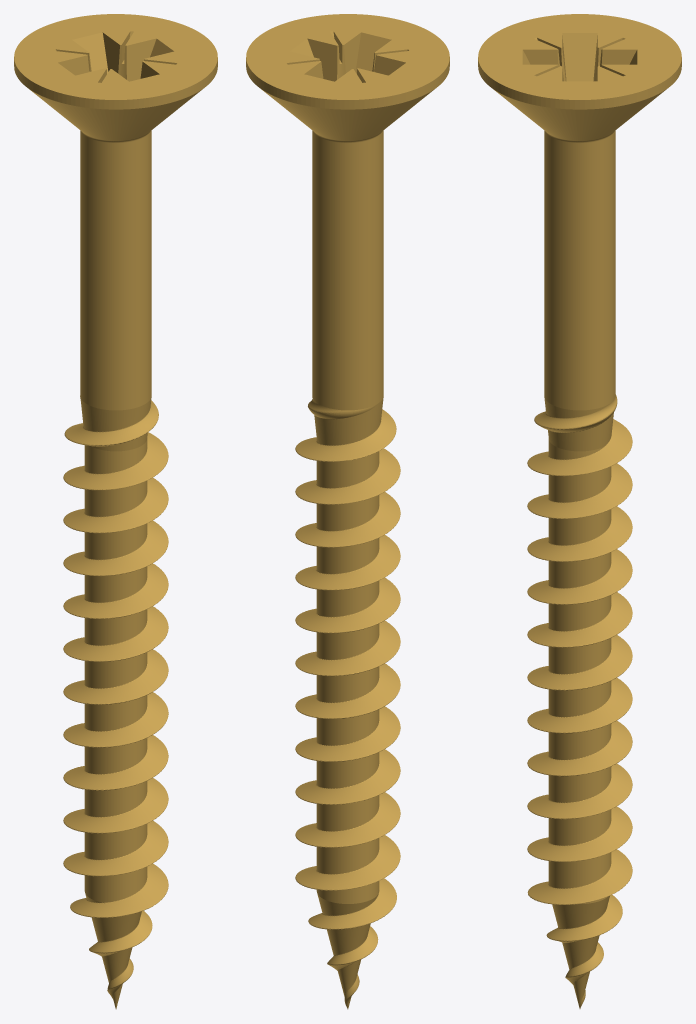
Rendered from model_full.glb.
3 views of the same model, side by side, from view 1: azimuth 30°, elevation 25°; view 2: azimuth 150°, elevation 25°; view 3: azimuth 270°, elevation 25° (orthographic).
Visible parts, largest first — view 1: geometry_0; view 2: geometry_0; view 3: geometry_0.
Boxes of the visible parts, x1,y1,x2,y2 form: geometry_0: (14,14,217,1009); geometry_0: (246,14,449,1009); geometry_0: (478,14,681,1008).
Bounding box in the file's own units: 0.00775 × 0.04 × 0.00775.
